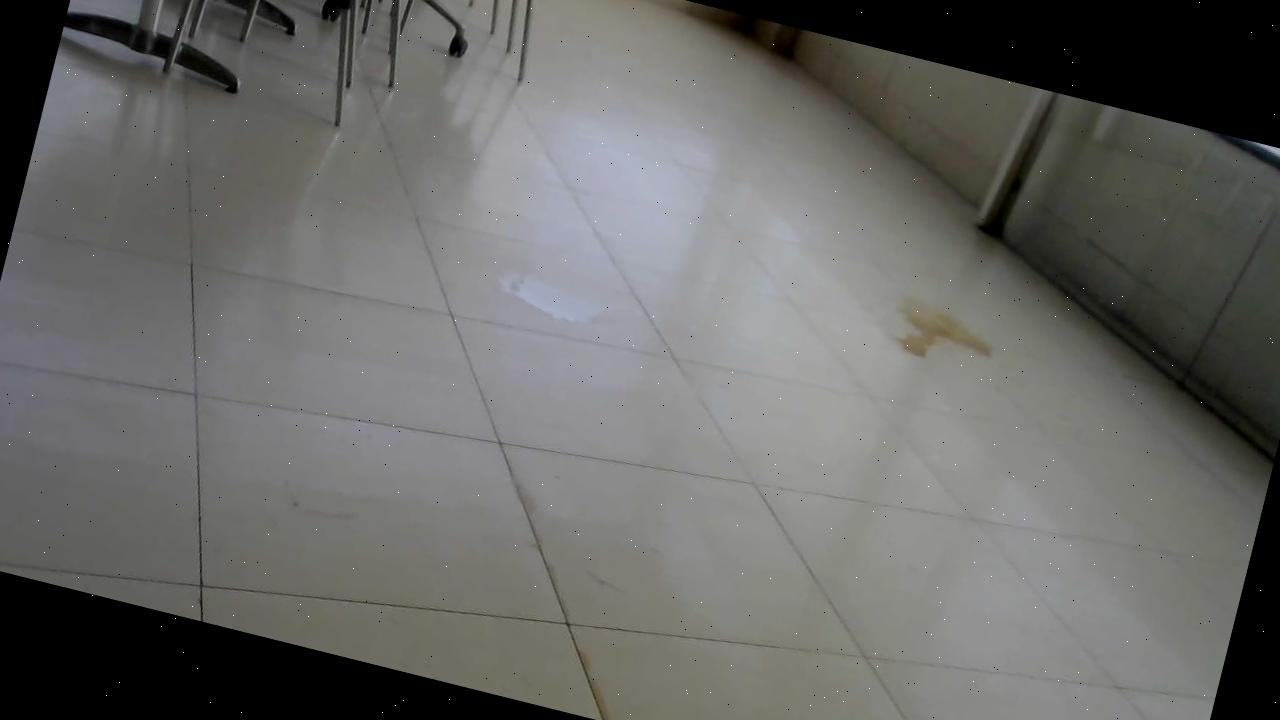dirty_floor: (879, 281, 1012, 384), (487, 260, 619, 334)
